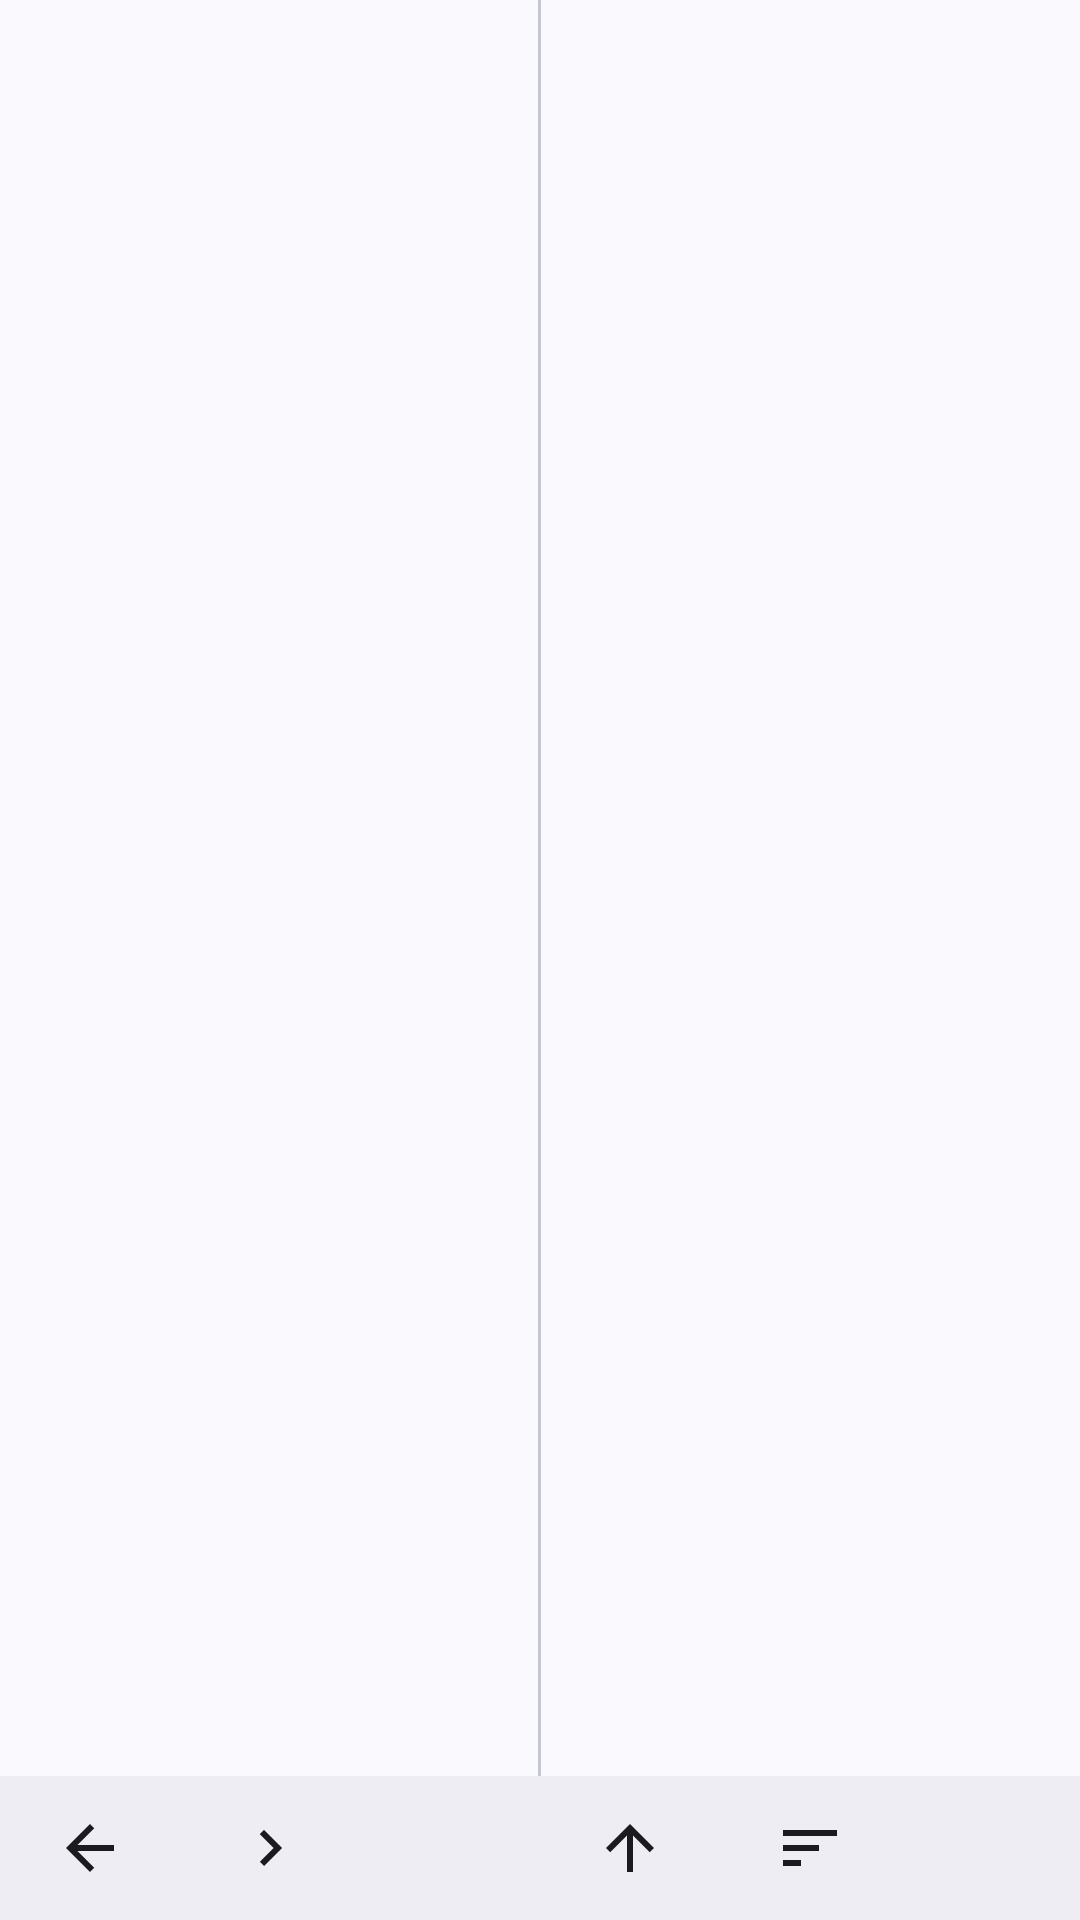

Icon click points for this 1080px×1920px phone screenshot, format point (x, y):
上一级: point (630, 1848)
前进: point (271, 1848)
排序: point (810, 1848)
返回: point (90, 1848)
